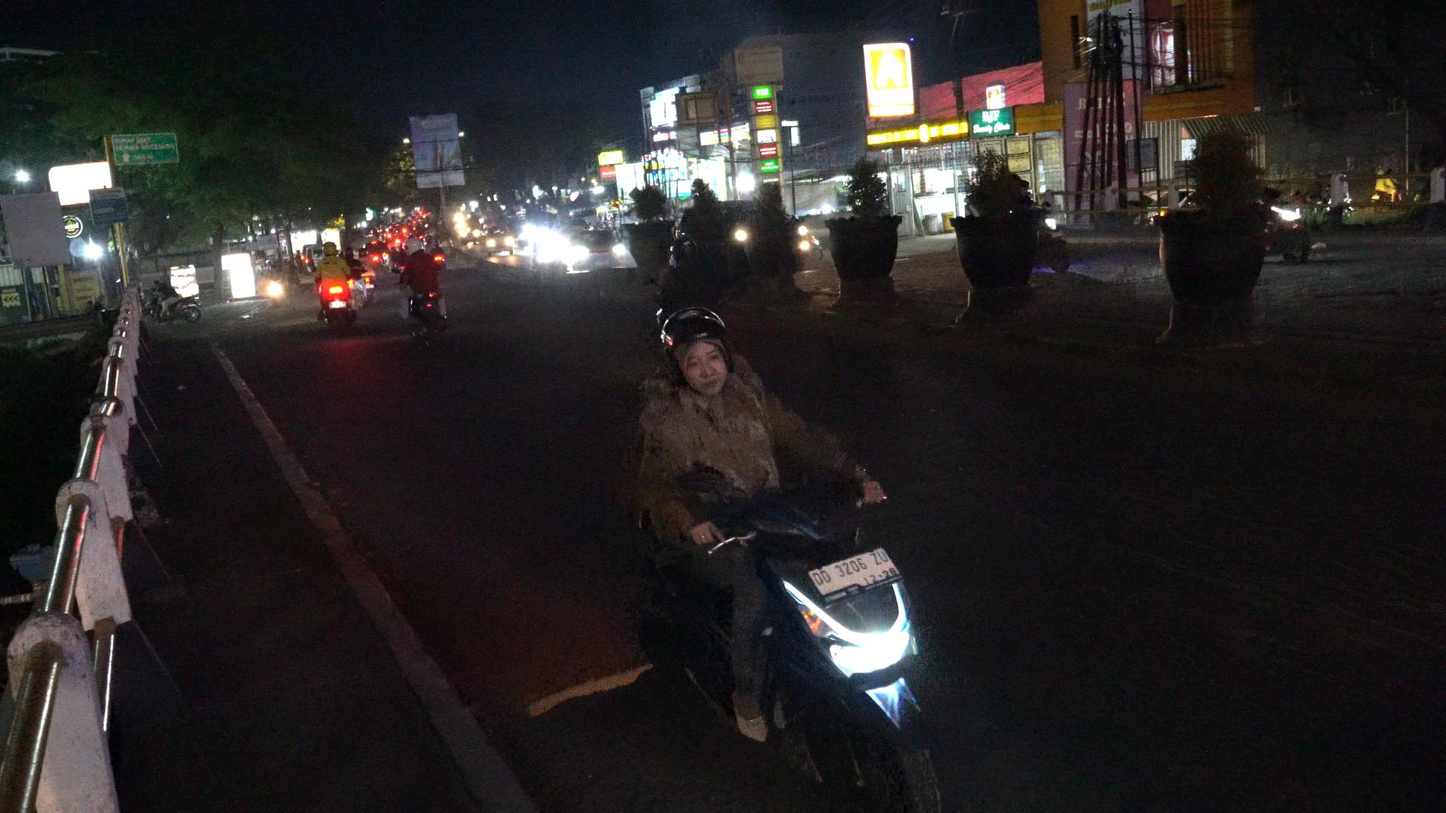number-plate: (813, 541, 903, 607)
